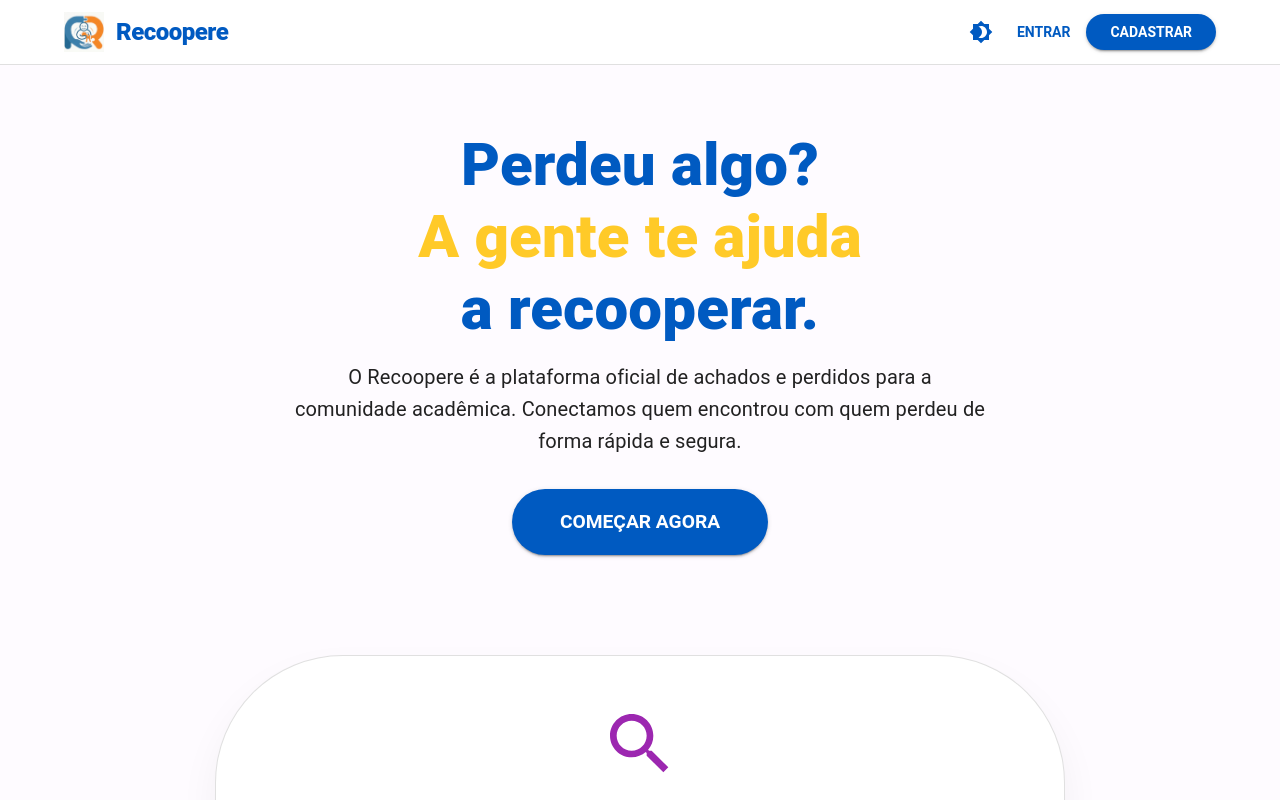
App - usuário deslogado › clicar em "Entrar" no cabeçalho leva à tela de login
The width and height of the screenshot is (1280, 800).
Click the button "Entrar".
click(1044, 32)  # box [1009,14,1078,50]
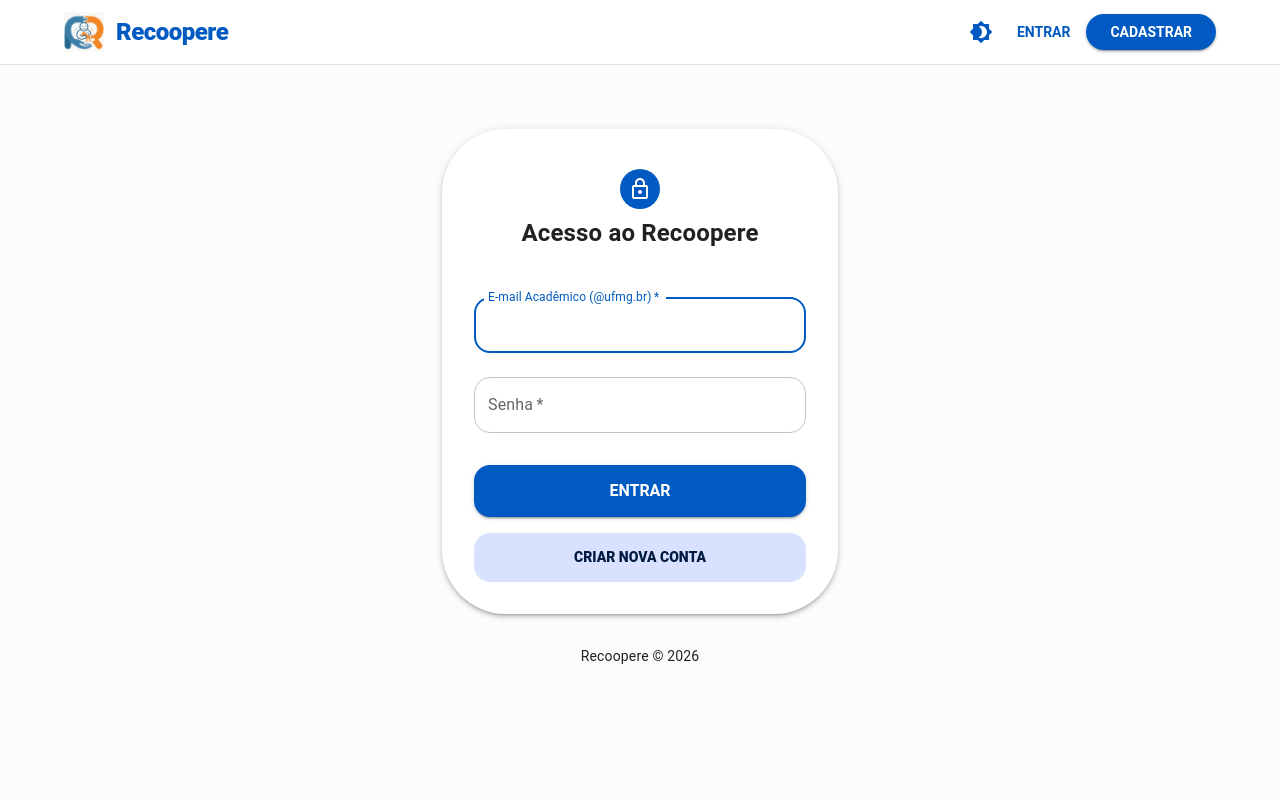
Now the heading "Acesso ao Recoopere" is shown, box [521,217,758,249]
Now the heading "Perdeu algo" is gone
